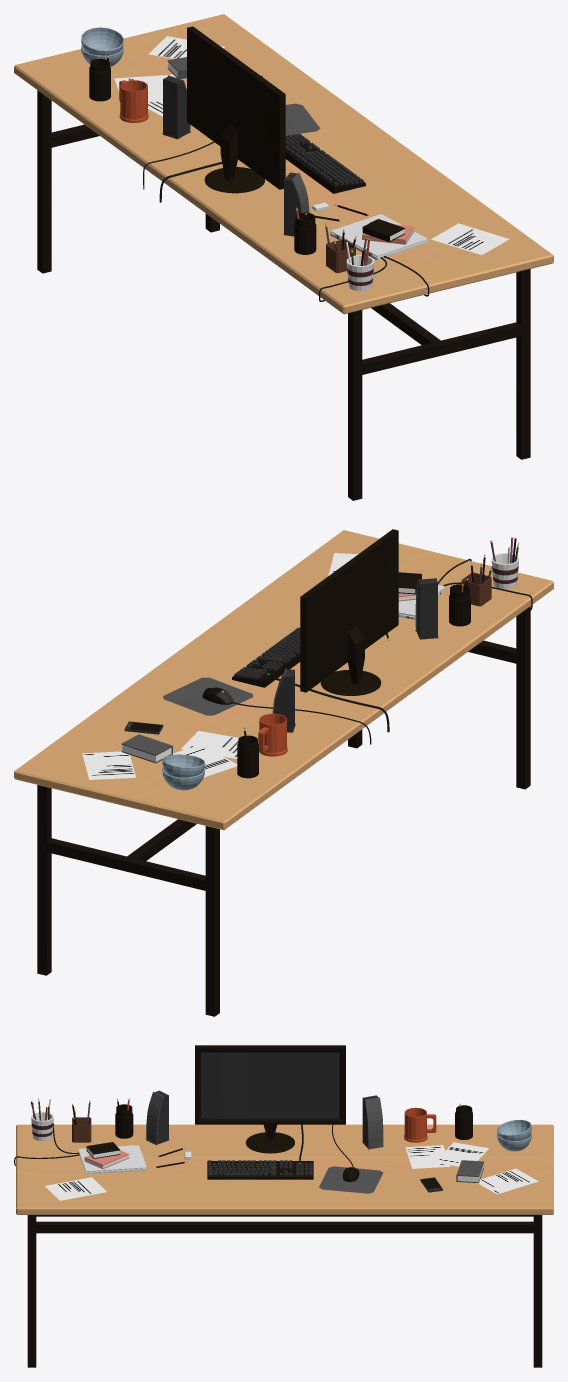
File: desk-transformed.glb
3 renders of one model, top to bottom at view 1: azimuth 30°, elevation 25°; view 2: azimuth 150°, elevation 25°; view 3: azimuth 270°, elevation 25°, orthographic. The views are drawn at different scales.
Visible parts, largest first — view 1: Desk_Desk_0, PC_Monitor_PC_Monitor_0, Paper_Paper_0, Boxes_Boxes_0, PC_Speaker_PC_Speakers_0, PC_Keyboard_PC_Keyboard_0, Boxes_B_Tranaparency_0, Notebook_Notebook_0, Books_Books_0, Dish_Cup_0, Mousepad_Mousepad_0, Keyboard_wire_WIre_0 (+1 smaller); view 2: Desk_Desk_0, PC_Monitor_PC_Monitor_0, Paper_Paper_0, Boxes_Boxes_0, PC_Speaker_PC_Speakers_0, PC_Keyboard_PC_Keyboard_0, Boxes_B_Tranaparency_0, Mousepad_Mousepad_0, Books_Books_0, Dish_Cup_0, Keyboard_wire_WIre_0, Pen_Pen_0; view 3: Desk_Desk_0, PC_Monitor_PC_Screen_0, PC_Monitor_PC_Monitor_0, Paper_Paper_0, PC_Speaker_PC_Speakers_0, PC_Keyboard_PC_Keyboard_0, Boxes_Boxes_0, Books_Books_0, Boxes_B_Tranaparency_0, Mousepad_Mousepad_0, Notebook_Notebook_0, Dish_Cup_0 (+1 smaller).
Boxes of the visible parts, x1,y1,x2,y2 form: Desk_Desk_0: [14, 14, 553, 500]; PC_Monitor_PC_Monitor_0: [187, 26, 285, 193]; Paper_Paper_0: [114, 36, 509, 254]; Boxes_Boxes_0: [119, 80, 374, 290]; PC_Speaker_PC_Speakers_0: [162, 75, 309, 236]; PC_Keyboard_PC_Keyboard_0: [285, 133, 365, 193]; Boxes_B_Tranaparency_0: [89, 58, 316, 254]; Notebook_Notebook_0: [330, 214, 428, 260]; Books_Books_0: [167, 57, 414, 244]; Dish_Cup_0: [81, 27, 124, 66]; Mousepad_Mousepad_0: [285, 103, 320, 135]; Keyboard_wire_WIre_0: [143, 141, 429, 301]; Desk_Desk_0: [14, 530, 553, 1016]; PC_Monitor_PC_Monitor_0: [300, 529, 398, 695]; Paper_Paper_0: [82, 553, 358, 779]; Boxes_Boxes_0: [258, 553, 518, 756]; PC_Speaker_PC_Speakers_0: [272, 578, 438, 732]; PC_Keyboard_PC_Keyboard_0: [232, 627, 300, 687]; Boxes_B_Tranaparency_0: [237, 584, 470, 778]; Mousepad_Mousepad_0: [163, 677, 252, 715]; Books_Books_0: [121, 572, 421, 763]; Dish_Cup_0: [162, 754, 205, 790]; Keyboard_wire_WIre_0: [231, 559, 532, 744]; Pen_Pen_0: [244, 537, 518, 743]; Desk_Desk_0: [16, 1124, 553, 1367]; PC_Monitor_PC_Screen_0: [201, 1052, 339, 1118]; PC_Monitor_PC_Monitor_0: [195, 1045, 345, 1153]; Paper_Paper_0: [45, 1142, 538, 1200]; PC_Speaker_PC_Speakers_0: [146, 1090, 383, 1149]; PC_Keyboard_PC_Keyboard_0: [207, 1160, 313, 1179]; Boxes_Boxes_0: [31, 1107, 436, 1142]; Books_Books_0: [84, 1142, 483, 1183]; Boxes_B_Tranaparency_0: [115, 1104, 472, 1139]; Mousepad_Mousepad_0: [319, 1166, 383, 1193]; Notebook_Notebook_0: [78, 1145, 146, 1173]; Dish_Cup_0: [497, 1119, 532, 1151].
Bounding box in the file's own units: 231 × 324 × 602.
Materials: 19 (17 with a texture image).
